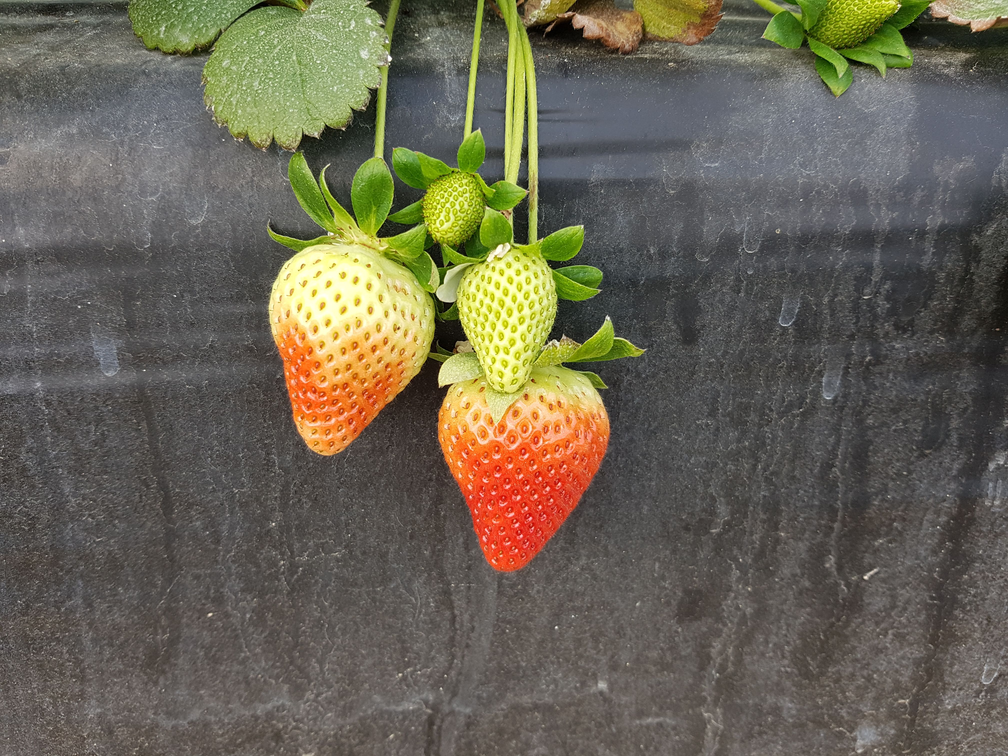peduncle: (501, 0, 538, 241), (522, 27, 537, 242), (463, 0, 483, 140), (374, 62, 390, 158), (385, 0, 399, 46)
strawberry: (439, 367, 609, 570), (271, 244, 433, 454), (457, 245, 556, 392), (422, 171, 485, 246)
